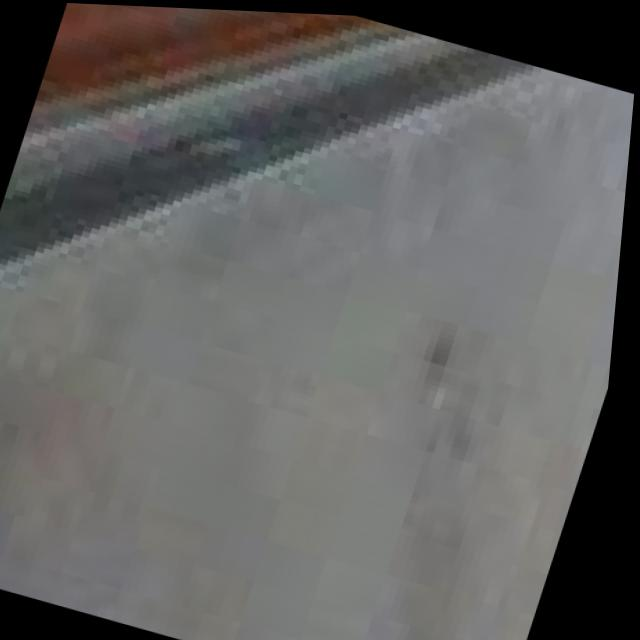metal-plates: (1, 10, 636, 640)
